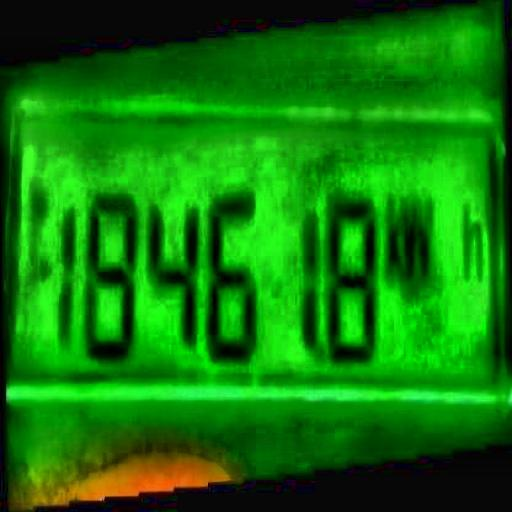DISPLAY_REGION: (8, 105, 512, 411)
SERIAL_REGION: (16, 185, 478, 367)
